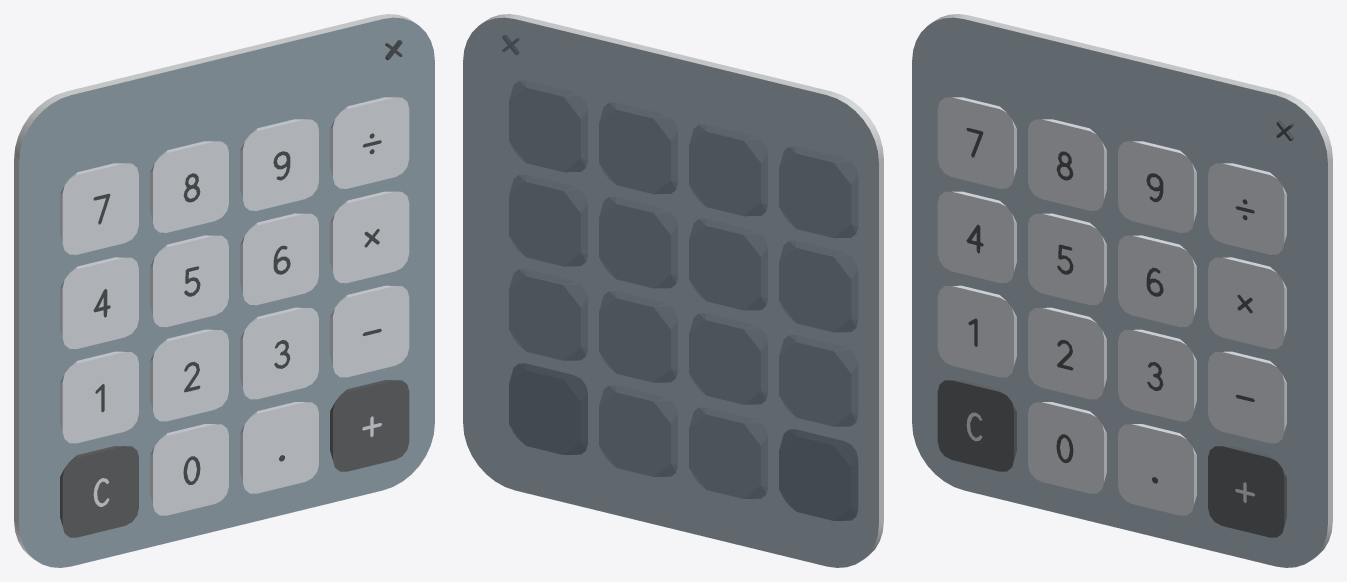
The model's file is numeric-keypad-852767.glb.
The picture shows the model from 3 angles, left to right: view 1: azimuth 30°, elevation 25°; view 2: azimuth 150°, elevation 25°; view 3: azimuth 330°, elevation 25°; orthographic projection.
Parts seen in each view (by area): view 1: plate, keys, legends; view 2: plate, keys; view 3: plate, keys, legends.
Boxes of the visible parts, x1=… form: plate: x1=14, y1=14, x2=434, y2=567; keys: x1=60, y1=40, x2=409, y2=537; legends: x1=93, y1=133, x2=381, y2=506; plate: x1=463, y1=14, x2=883, y2=567; keys: x1=503, y1=35, x2=857, y2=520; plate: x1=912, y1=14, x2=1332, y2=567; keys: x1=937, y1=97, x2=1293, y2=537; legends: x1=966, y1=128, x2=1254, y2=502.
Bounding box in the file's own units: 0.24 × 0.26 × 0.015.
